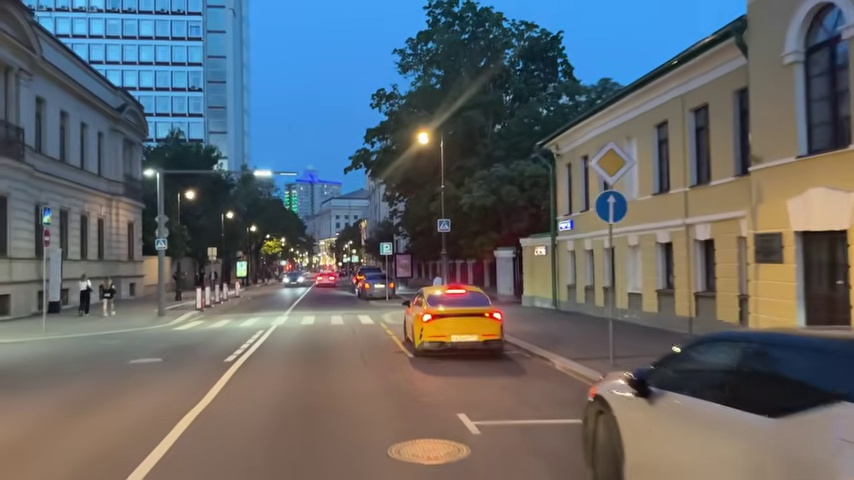acesa: (412, 128, 435, 150), (181, 187, 199, 204)
